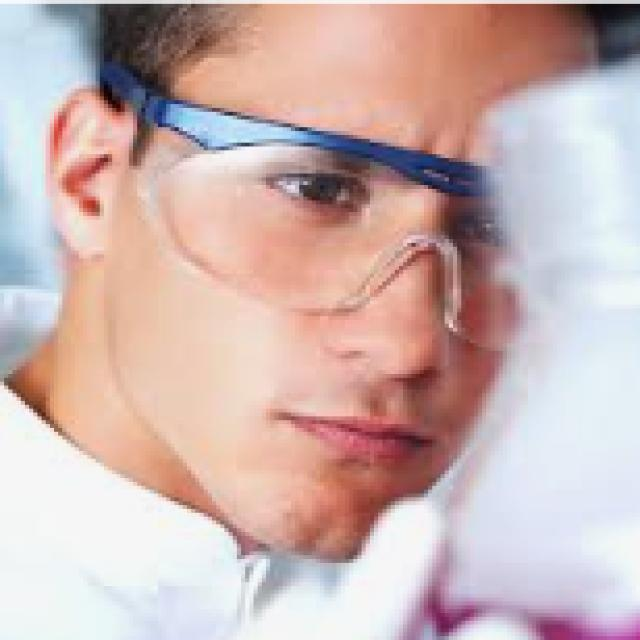glasses: (135, 76, 602, 312)
